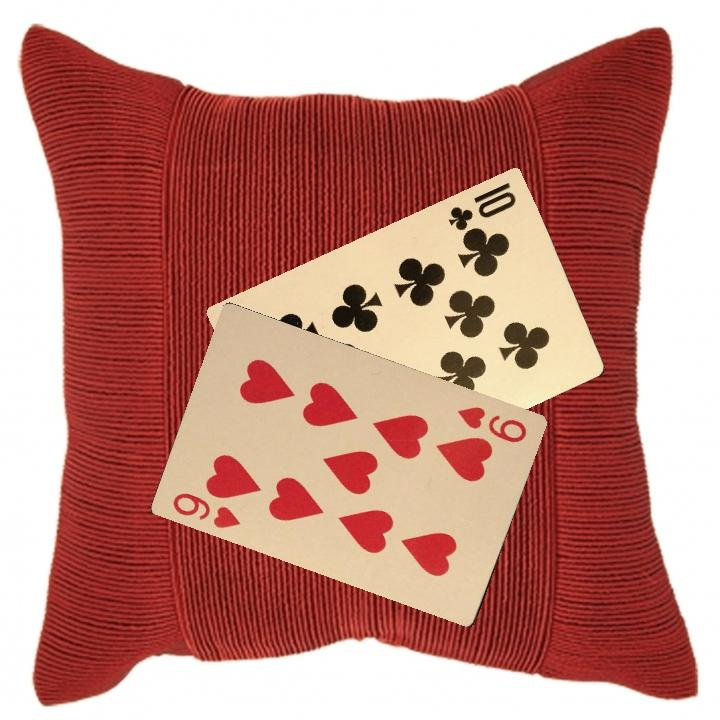10c: (444, 178, 519, 236)
9h: (453, 402, 529, 446), (168, 488, 243, 531)
